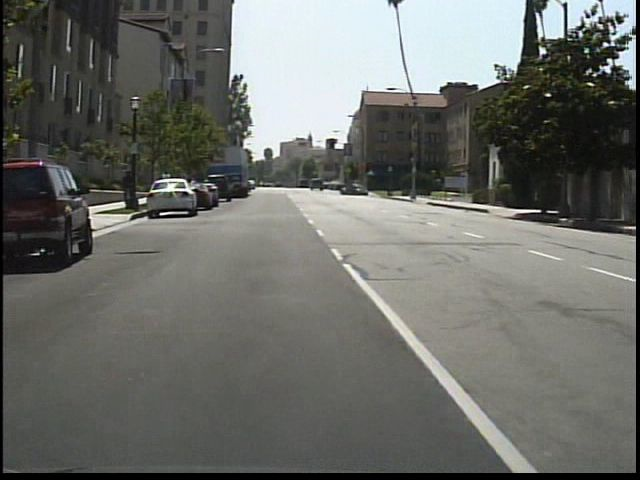person: (118, 167, 130, 202)
